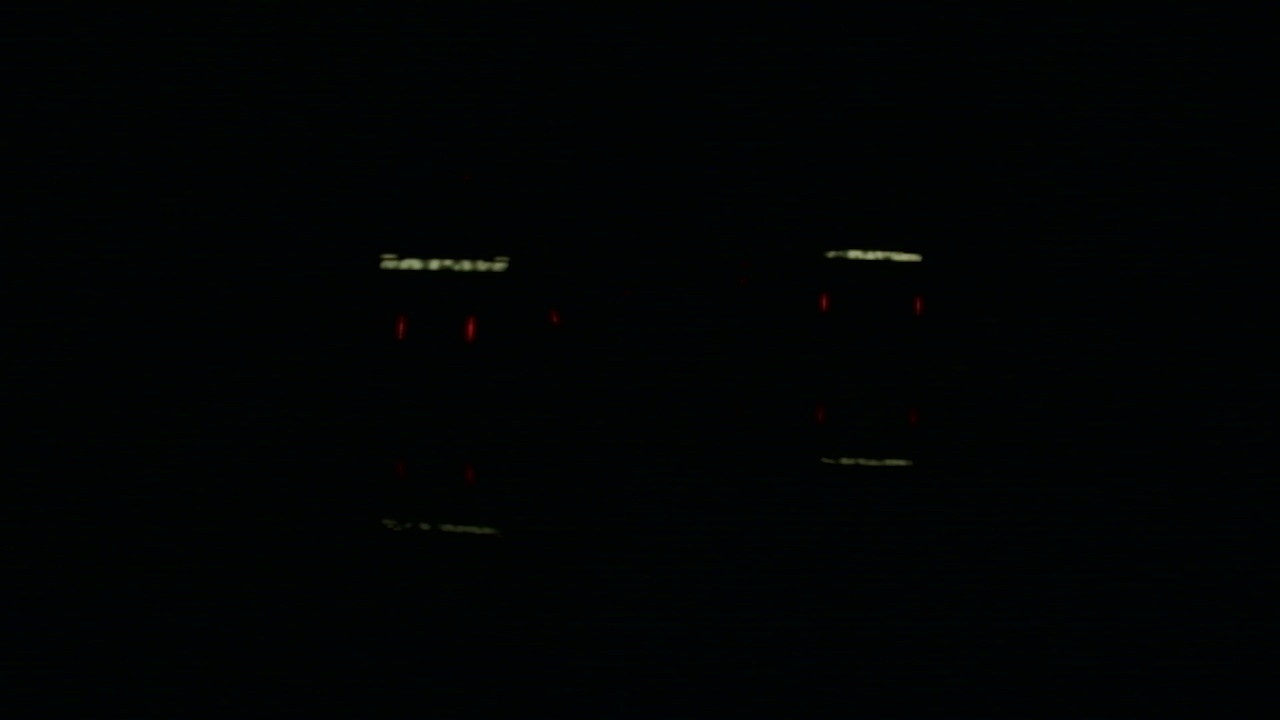lamp: (464, 317, 476, 341), (394, 315, 403, 337), (818, 292, 827, 311), (914, 290, 920, 310)
pair1: (398, 317, 475, 340)
pair2: (819, 292, 922, 312)
